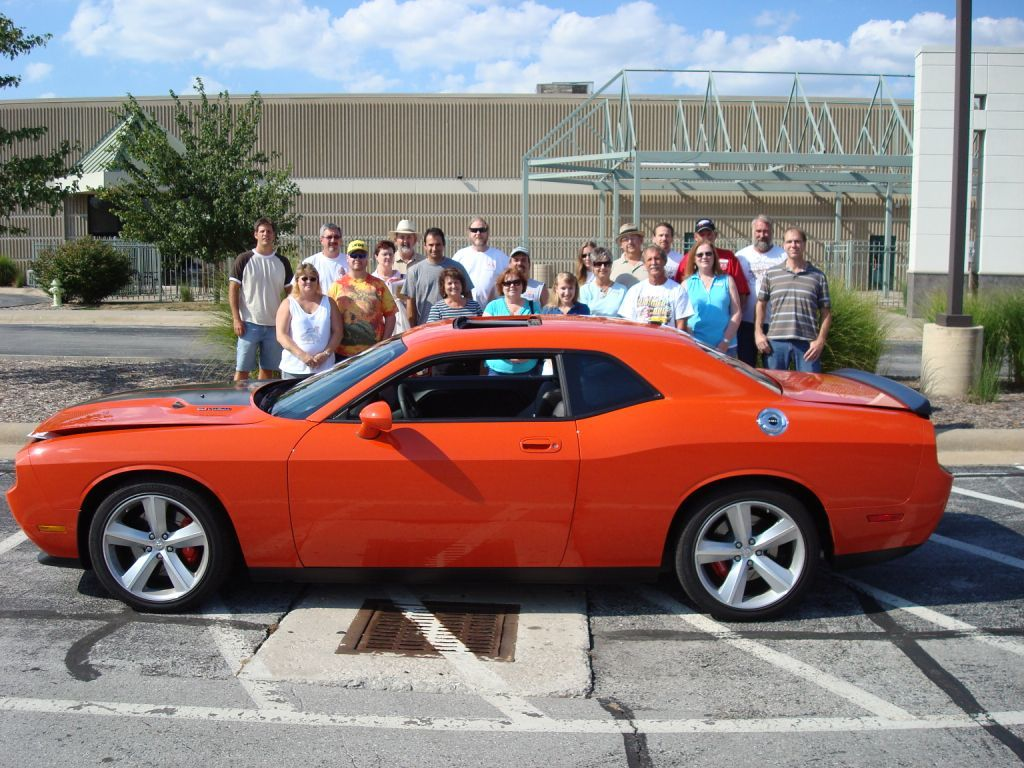Car: (5, 317, 951, 624)
